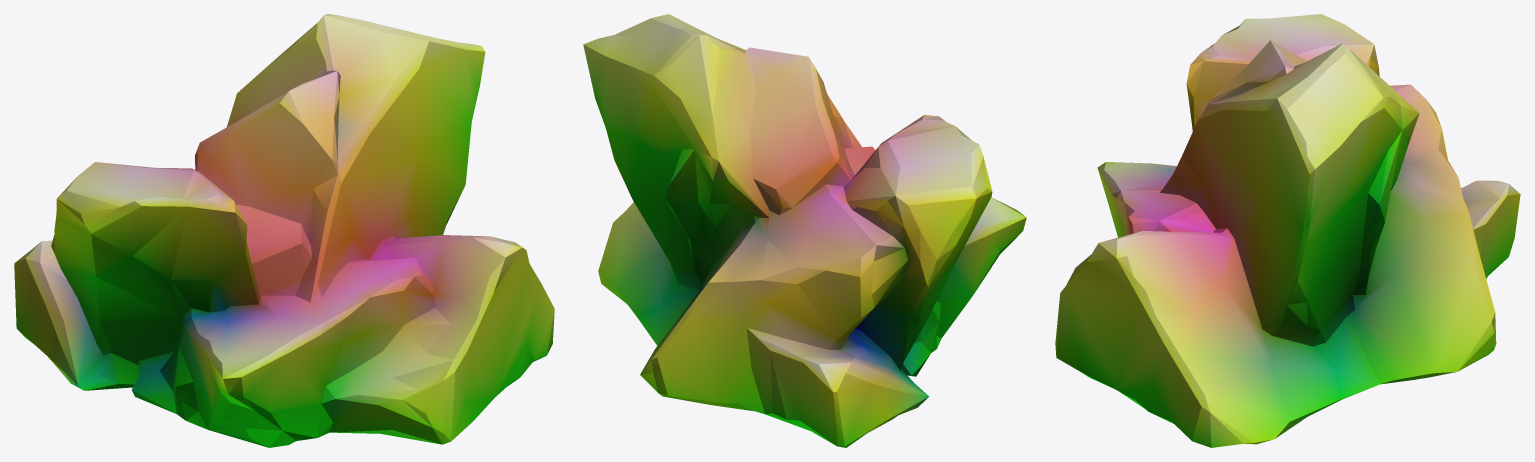
File: rock_group_03_LOD2.fbx
3 renders of one model, left to right at view 1: azimuth 30°, elevation 25°; view 2: azimuth 150°, elevation 25°; view 3: azimuth 270°, elevation 25°, orthographic. The views are drawn at different scales.
Visible parts, largest first — view 1: LOD1; view 2: LOD1; view 3: LOD1.
Boxes of the visible parts, <box> form: LOD1: <box>14,14,554,447</box>; LOD1: <box>583,14,1026,447</box>; LOD1: <box>1055,14,1520,447</box>.
Bounding box in the file's own units: 630 × 443 × 571.
